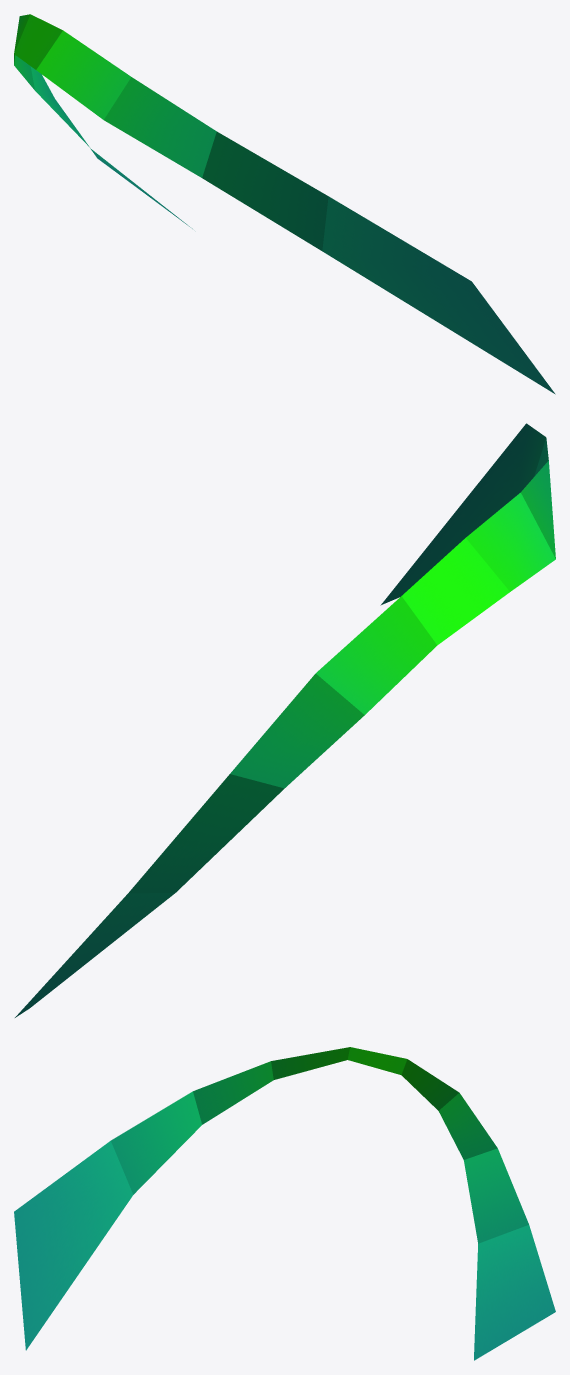
The model's file is FX_Emily_AttackSwing_001.FBX.
The picture shows the model from 3 angles, top to bottom: view 1: azimuth 30°, elevation 25°; view 2: azimuth 150°, elevation 25°; view 3: azimuth 270°, elevation 25°; orthographic projection. The views are drawn at different scales.
Visible parts, largest first — view 1: FX_Emily_AttackNormal_001; view 2: FX_Emily_AttackNormal_001; view 3: FX_Emily_AttackNormal_001.
Boxes of the visible parts, <box> form: FX_Emily_AttackNormal_001: <box>14,14,555,394</box>; FX_Emily_AttackNormal_001: <box>15,423,555,1017</box>; FX_Emily_AttackNormal_001: <box>14,1047,555,1360</box>.
Size of the model in its own units: 220 by 217 by 454.
